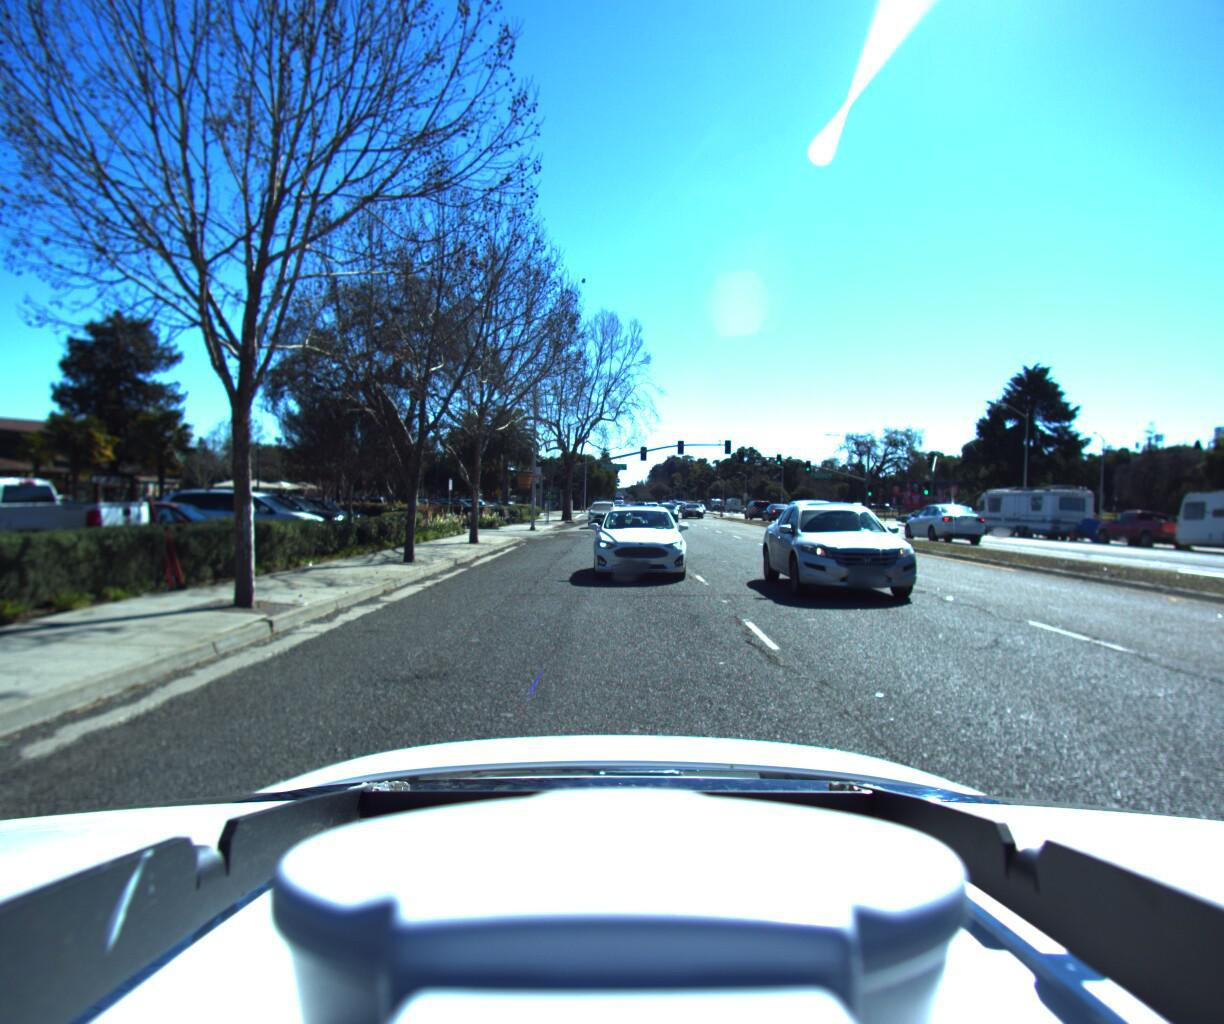car: (758, 493, 963, 611), (0, 466, 157, 596), (45, 498, 251, 576), (136, 483, 328, 548), (184, 489, 354, 549), (589, 501, 688, 583), (1089, 507, 1203, 550), (894, 498, 987, 542), (449, 496, 505, 518), (582, 499, 616, 527), (758, 500, 797, 524), (650, 500, 681, 523), (743, 499, 774, 520), (683, 500, 710, 518)
other_vehicle: (967, 481, 1102, 542), (1168, 474, 1224, 564), (1055, 513, 1113, 543)
